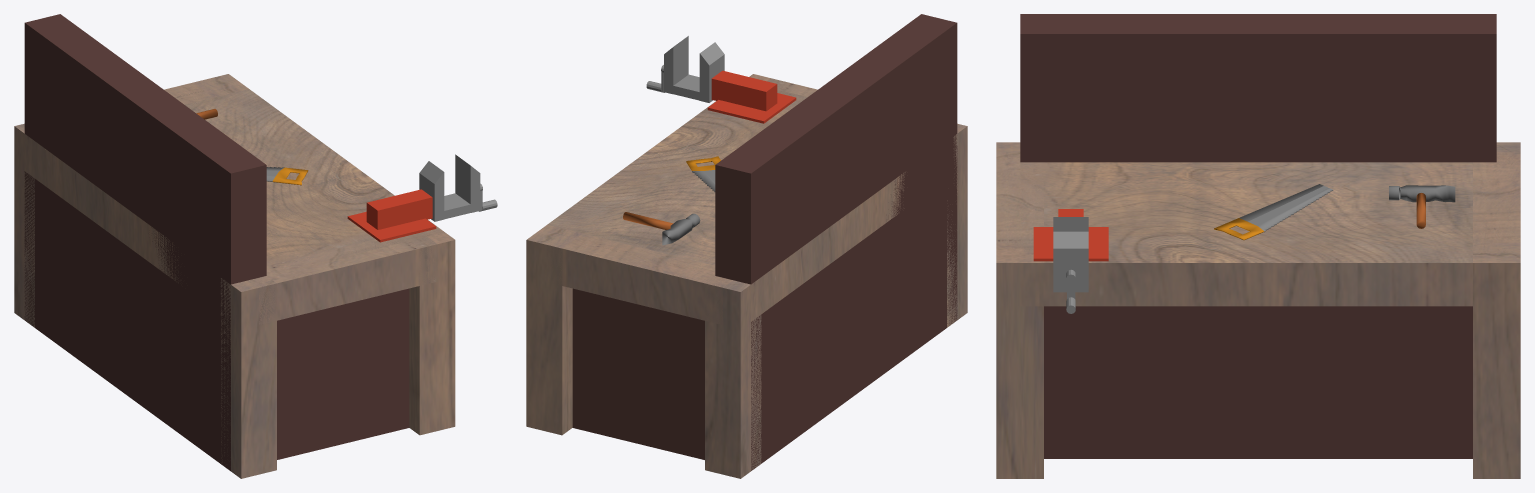
Rendered from workbench.fbx.
3 views of the same model, side by side, from view 1: azimuth 30°, elevation 25°; view 2: azimuth 150°, elevation 25°; view 3: azimuth 270°, elevation 25° (orthographic). The views are drawn at different scales.
Visible parts, largest first — view 1: bench.001, bench, schroef, saw; view 2: bench.001, bench, schroef, hammer, saw; view 3: bench.001, bench, schroef, saw, hammer.
Part boxes in pixels (<box>): bench.001: <box>24,14,409,471</box>; bench: <box>14,74,455,478</box>; schroef: <box>347,154,497,242</box>; saw: <box>266,167,308,185</box>; bench.001: <box>572,14,957,470</box>; bench: <box>526,74,967,478</box>; schroef: <box>646,36,796,123</box>; hammer: <box>623,212,700,245</box>; saw: <box>686,156,720,192</box>; bench.001: <box>1020,14,1496,458</box>; bench: <box>996,142,1520,478</box>; schroef: <box>1033,209,1108,313</box>; saw: <box>1214,184,1333,240</box>; hammer: <box>1389,185,1455,228</box>.
Bounding box in the file's own units: 161 × 159 × 220.
